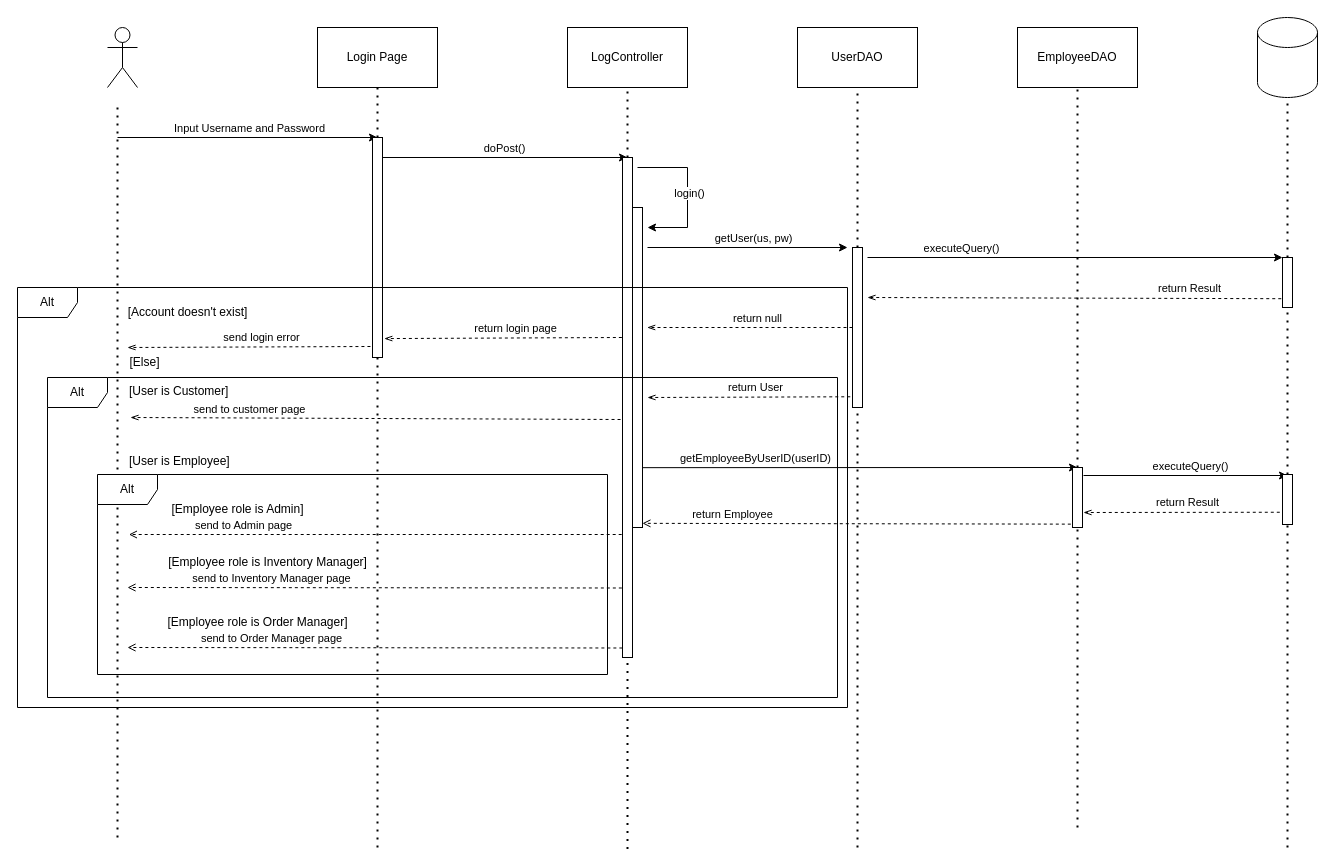
Image size: 1335x868. Some labels were removed from this diagram. The shapes that lost their labels are listed below. From the top down, each one's centre as x and y in pixels, then its label:
At [122,57]: "Actor".
At [1287,57]: "DB".
